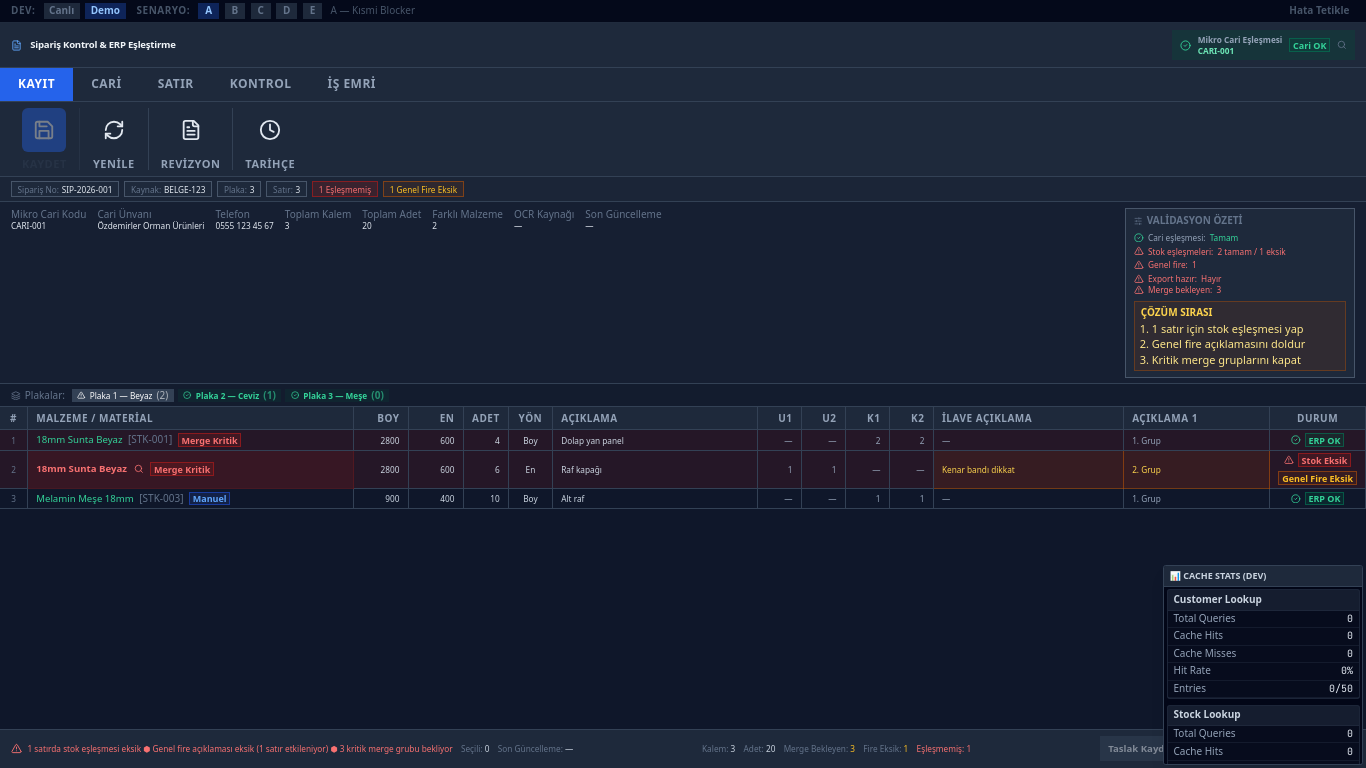
Test: SiparisKontrolPage › Escape tuşu Cari modalı kapatır
The width and height of the screenshot is (1366, 768).
Step 1. Click the tab "CARİ" → point(106, 84), box [73,68,140,101]
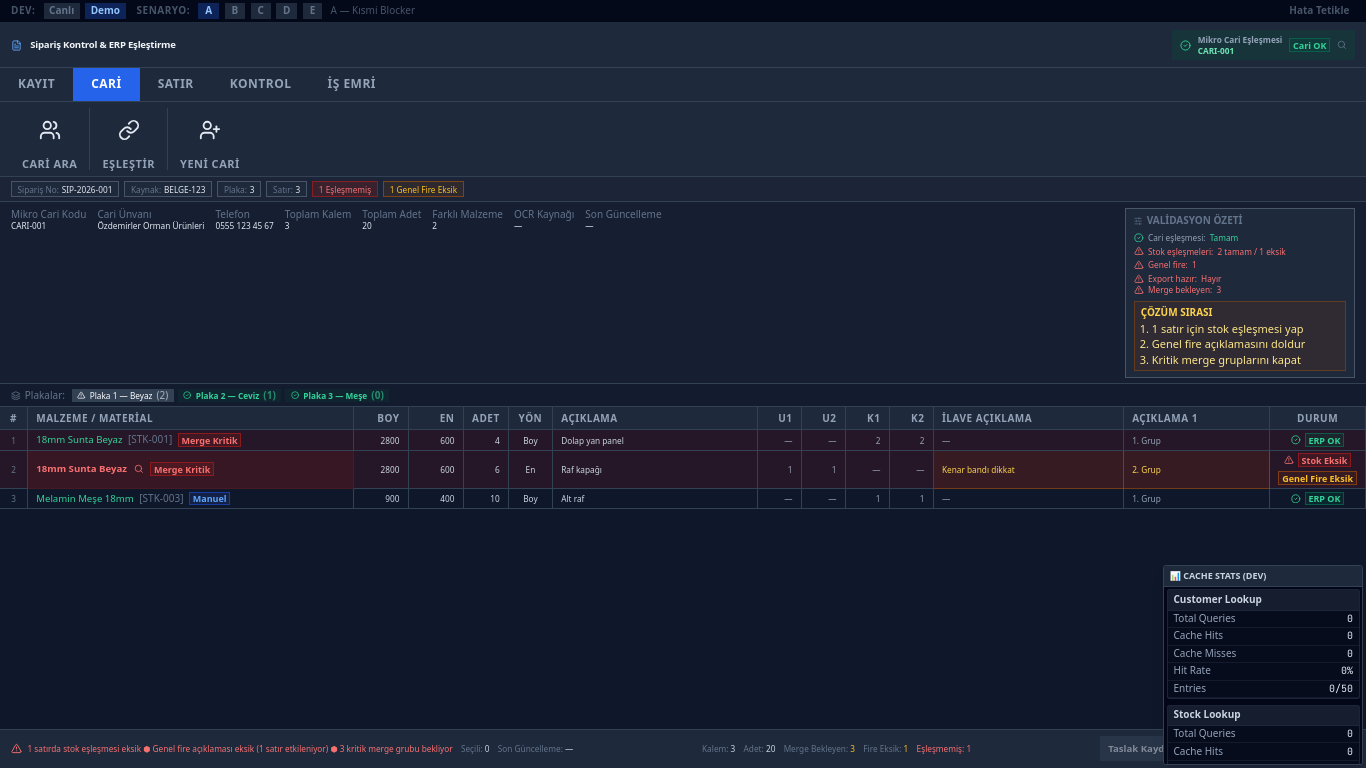
Step 2. Click the button named "Cari Ara" → point(50, 130), box [28,108,72,152]
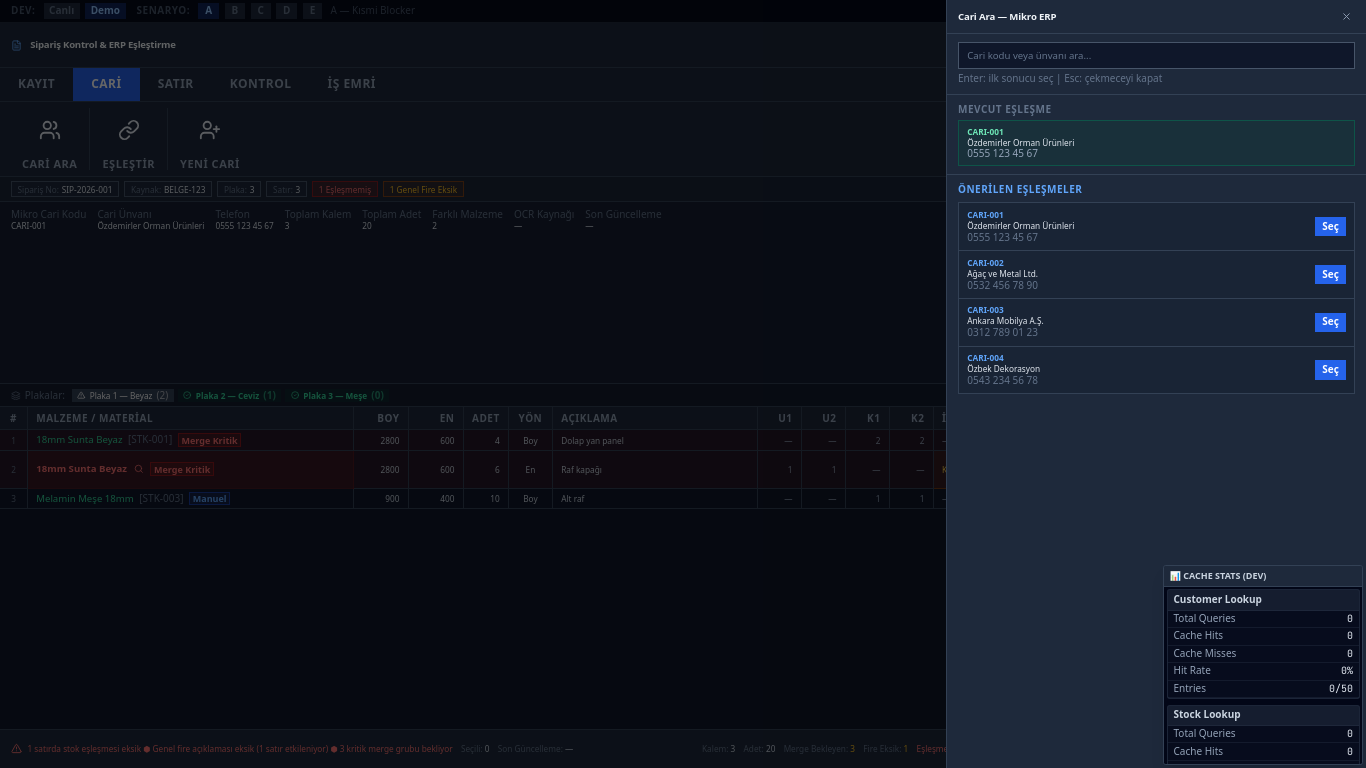
Expected: the dialog is shown, [946,0,1365,767]
Expected: the text "Enter: ilk sonucu seç | Esc: çekmeceyi kapat" is shown, [958,71,1162,85]
Step 3. Press Escape
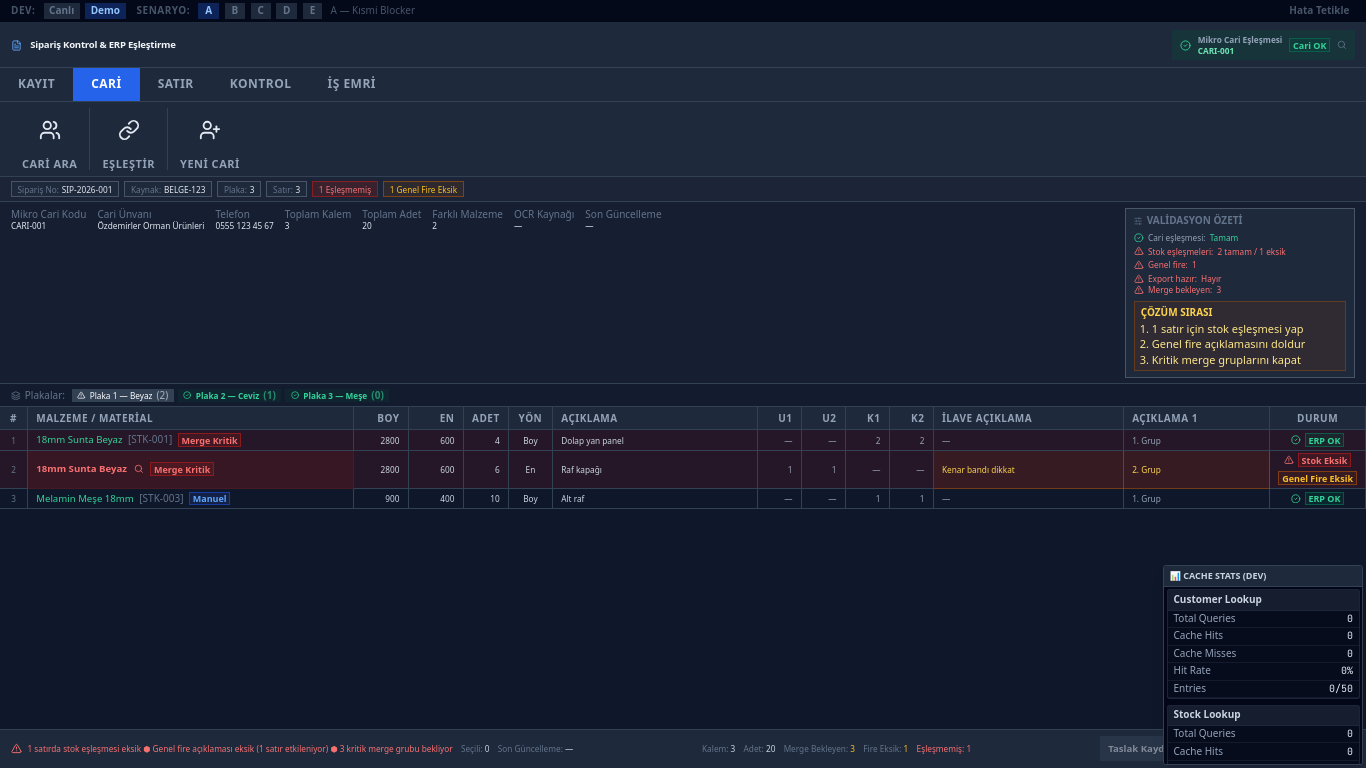
Expected: the dialog is gone
